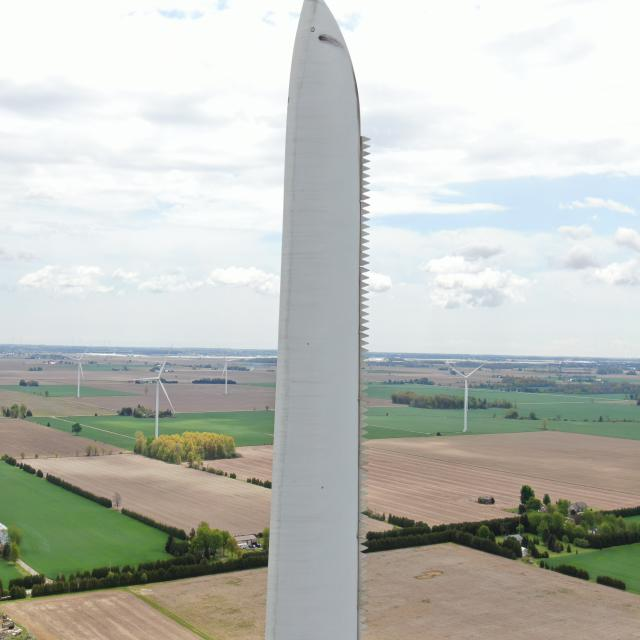damage: (317, 32, 345, 51)
